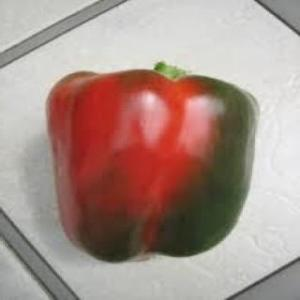bell_pepper: (35, 50, 285, 278)
